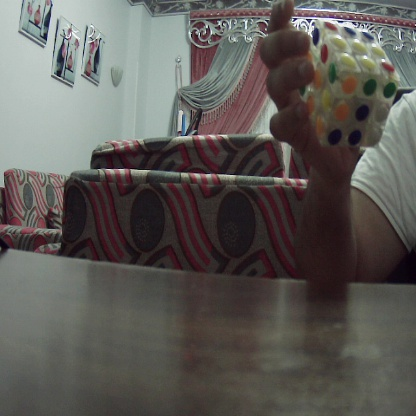Rubix Cube: (305, 21, 404, 151)
